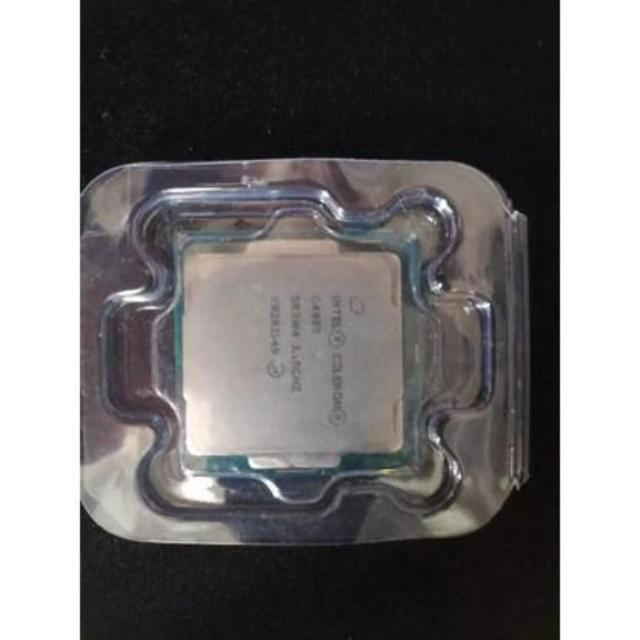CPU: (167, 230, 419, 462)
